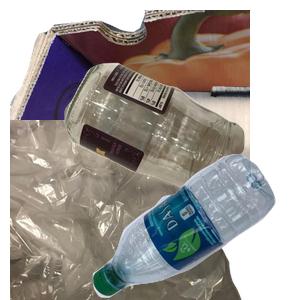cardboard: (10, 10, 250, 190)
glass: (62, 60, 300, 240)
plastic: (90, 154, 300, 300)
trash: (10, 120, 244, 300)
